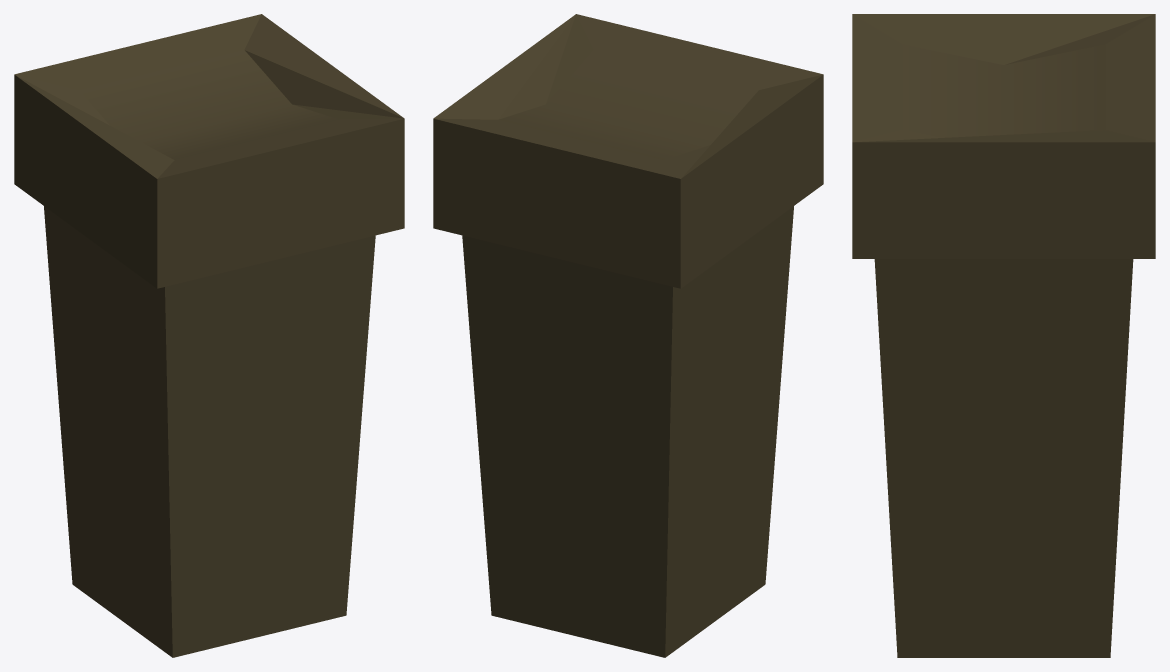
The model's file is inside trash can.FBX.
3 renders of one model, left to right at view 1: azimuth 30°, elevation 25°; view 2: azimuth 150°, elevation 25°; view 3: azimuth 270°, elevation 25°, orthographic. The views are drawn at different scales.
Visible parts, largest first — view 1: Box001; view 2: Box001; view 3: Box001.
Part boxes in pixels (left/top/right/bottom): Box001: left=14, top=14, right=404, bottom=657; Box001: left=433, top=14, right=823, bottom=657; Box001: left=852, top=14, right=1155, bottom=657.
Bounding box in the file's own units: 17.11 × 33.25 × 17.11.
